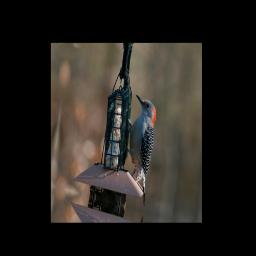Woodpecker: (117, 90, 159, 207)
